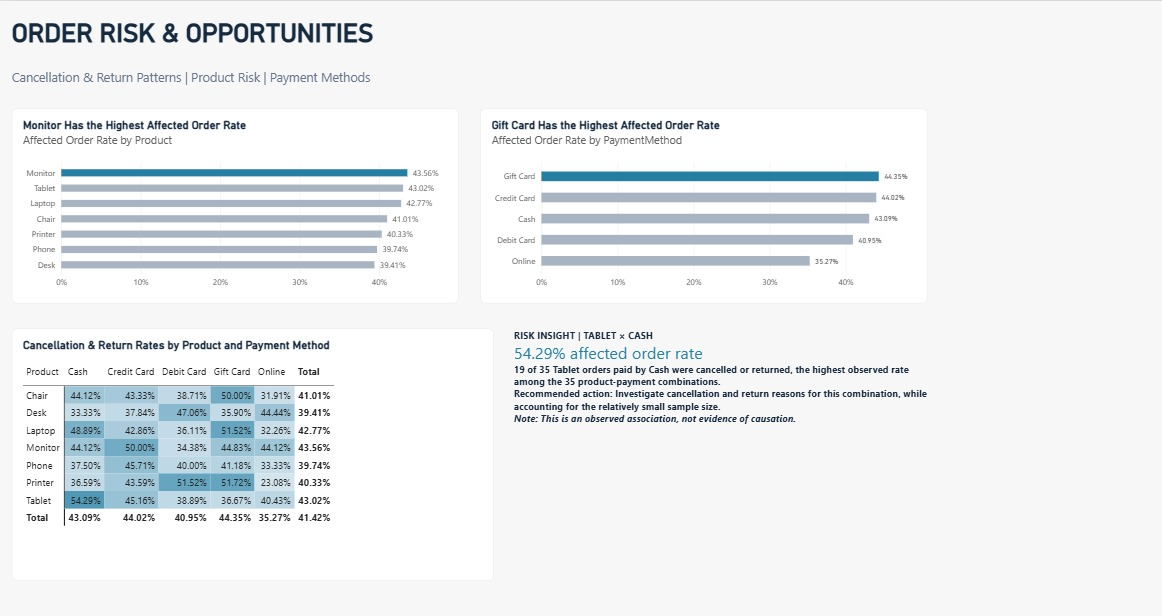

The page's visual inventory and layout, read from the dashboard file:
{"tool":"powerbi","page":{"name":"Order Risk & Opportunities","canvas":[1920,1080],"ordinal":2},"visuals":[{"type":"textbox","box":[17.5,25,665,75],"z":0},{"type":"textbox","box":[17.5,100,665,60],"z":1000},{"type":"clusteredBarChart","title":"Monitor Has the Highest Affected Order Rate","fields":{"Category":["Orders.Product"],"Y":["Orders.Affected Order Rate"]},"box":[17.5,160,665,290],"z":2000},{"type":"clusteredBarChart","title":"Gift Card Has the Highest Affected Order Rate","fields":{"Category":["Orders.PaymentMethod"],"Y":["Orders.Affected Order Rate"]},"box":[715,160,665,290],"z":3000},{"type":"pivotTable","title":"Cancellation & Return Rates by Product and Payment Method","fields":{"Columns":["Orders.PaymentMethod"],"Rows":["Orders.Product"],"Values":["Orders.Affected Order Rate"]},"box":[17.5,487.5,717.5,375],"z":4000},{"type":"textbox","box":[765,487.5,615,375],"z":4001}]}

Visuals, with their boxes on the page's 1920x1080 design canvas (x1, y1, x2, y2). These are canvas units, not pixel positions in the 1162x616 screenshot, which may show the page scaled, cropped or inside an application window:
textbox: 18, 25, 682, 100
textbox: 18, 100, 682, 160
"Monitor Has the Highest Affected Order Rate" clusteredBarChart: 18, 160, 682, 450
"Gift Card Has the Highest Affected Order Rate" clusteredBarChart: 715, 160, 1380, 450
"Cancellation & Return Rates by Product and Payment Method" pivotTable: 18, 488, 735, 862
textbox: 765, 488, 1380, 862
